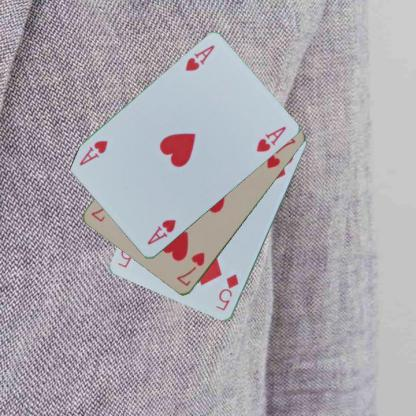5d: (213, 272, 240, 312)
7h: (174, 250, 206, 288)
Ah: (145, 216, 178, 246), (183, 43, 216, 73)
